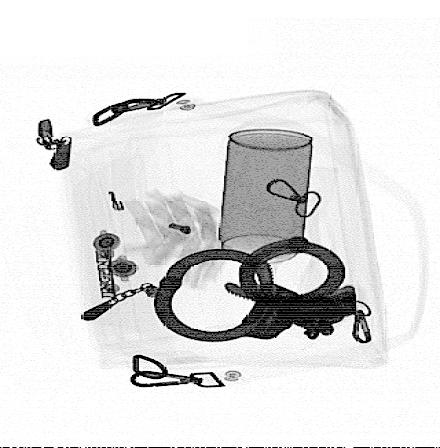HandCuffs: (149, 231, 358, 345)
